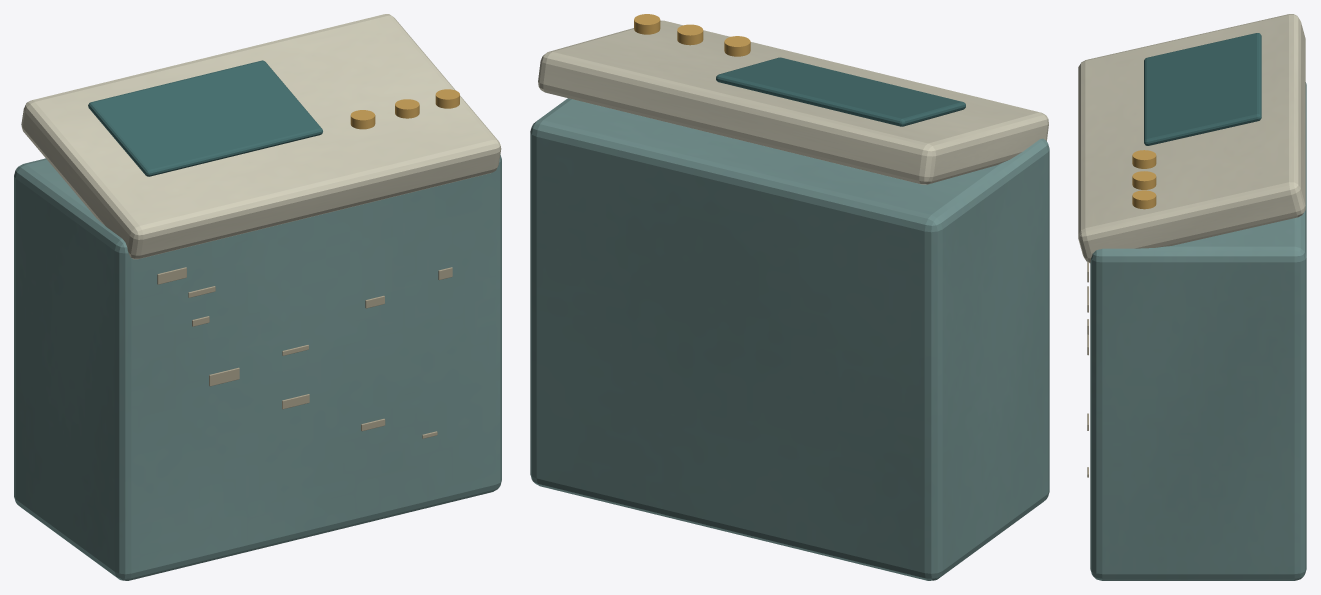
File: Control_Console.glb
3 views of the same model, side by side, from view 1: azimuth 30°, elevation 25°; view 2: azimuth 150°, elevation 25°; view 3: azimuth 270°, elevation 25° (orthographic). The views are drawn at different scales.
Visible parts, largest first — view 1: Control_Console; view 2: Control_Console; view 3: Control_Console.
Part boxes in pixels (x1,y1,x2,y2): Control_Console: (14,14,501,580); Control_Console: (530,14,1049,580); Control_Console: (1078,14,1306,580).
Size of the model in its own units: 2 by 2.02 by 1.06.
5 materials, 2 textured.
